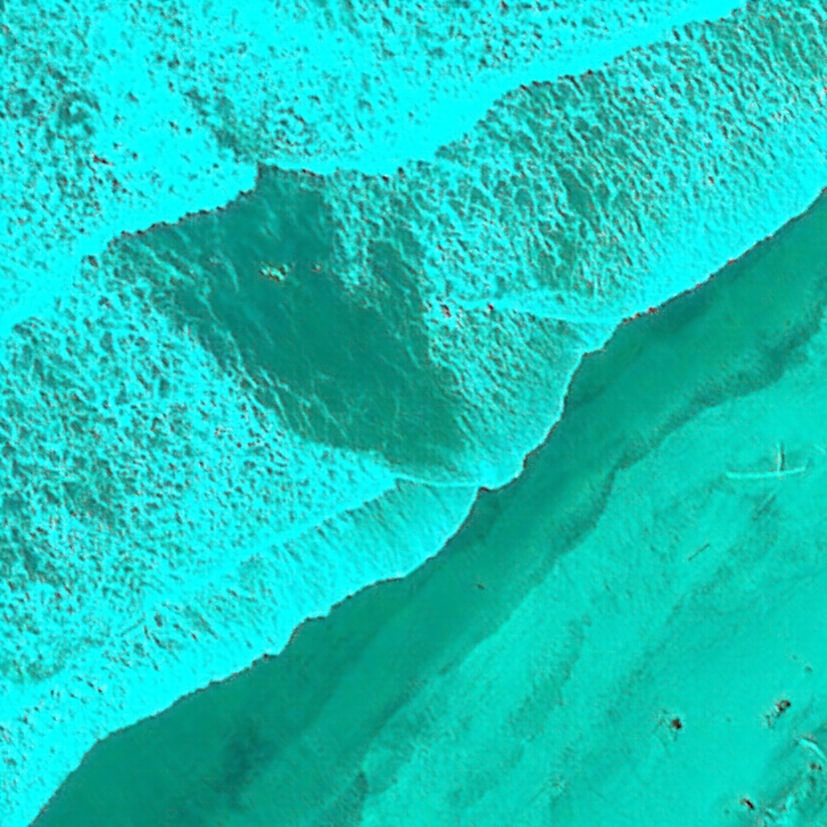rip_current: (96, 134, 517, 542)
